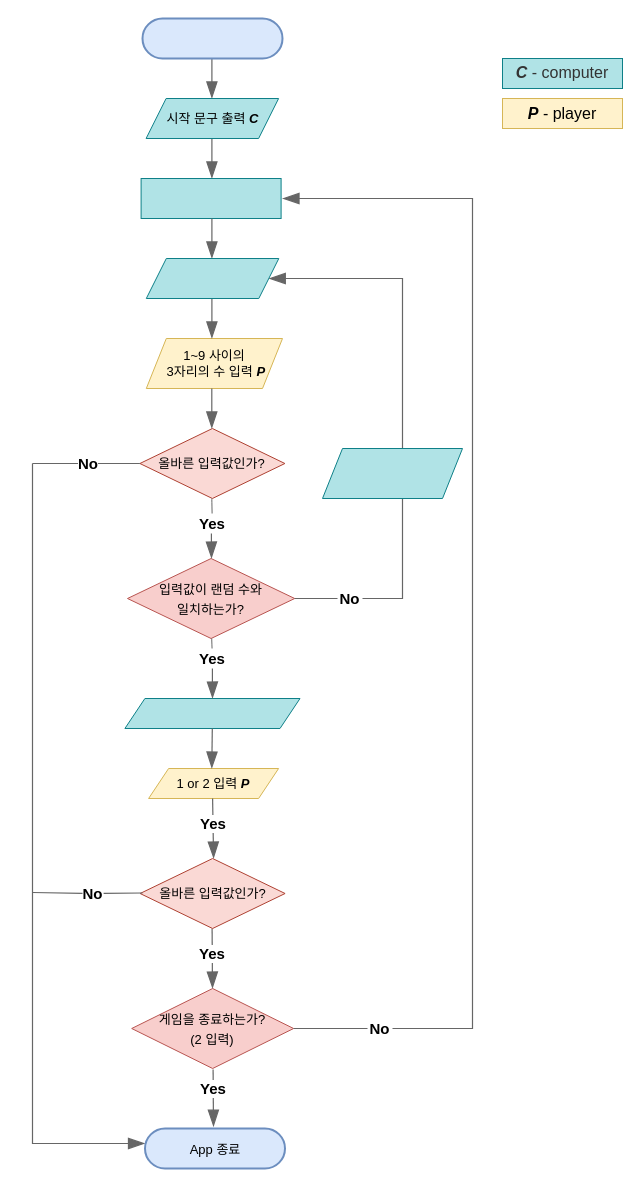
This 641x1186 diagram has some shape labels left out. Each missing label, with the box of its shape:
1~9 사이 3자리의 랜덤 수 생성 C: (140, 178, 281, 218)
게임 시작: (141, 17, 283, 59)
결과,입력 메시지 출력 C: (124, 698, 300, 728)
입력 문구 출력 C: (145, 258, 279, 298)
입력받은 수에 대한 결과 출력 C: (322, 448, 462, 498)
